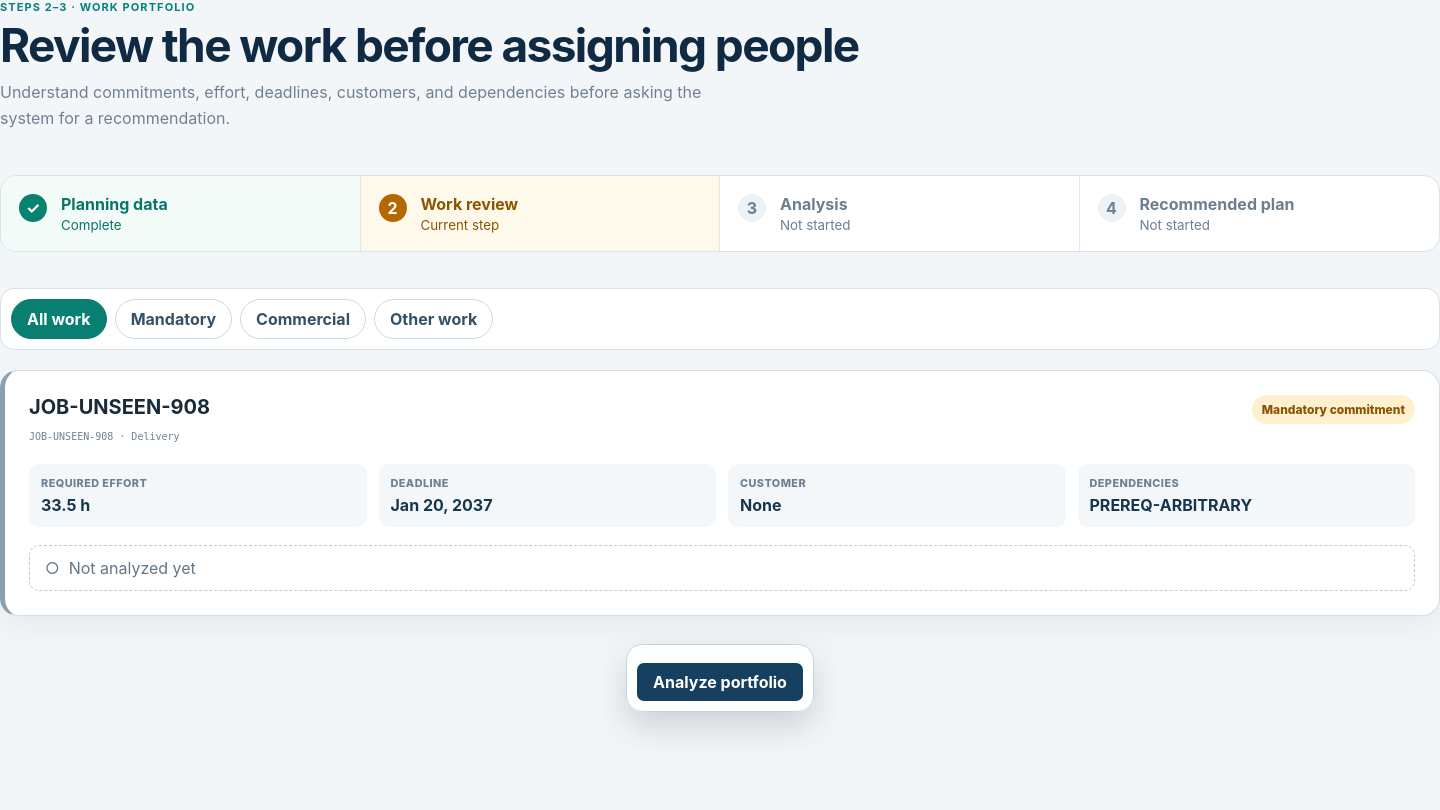
it: WorkItems staged workflow › requires separate Analyze and Generate actions
Click the button "Analyze portfolio".
click(720, 682)  # box [637,664,803,702]
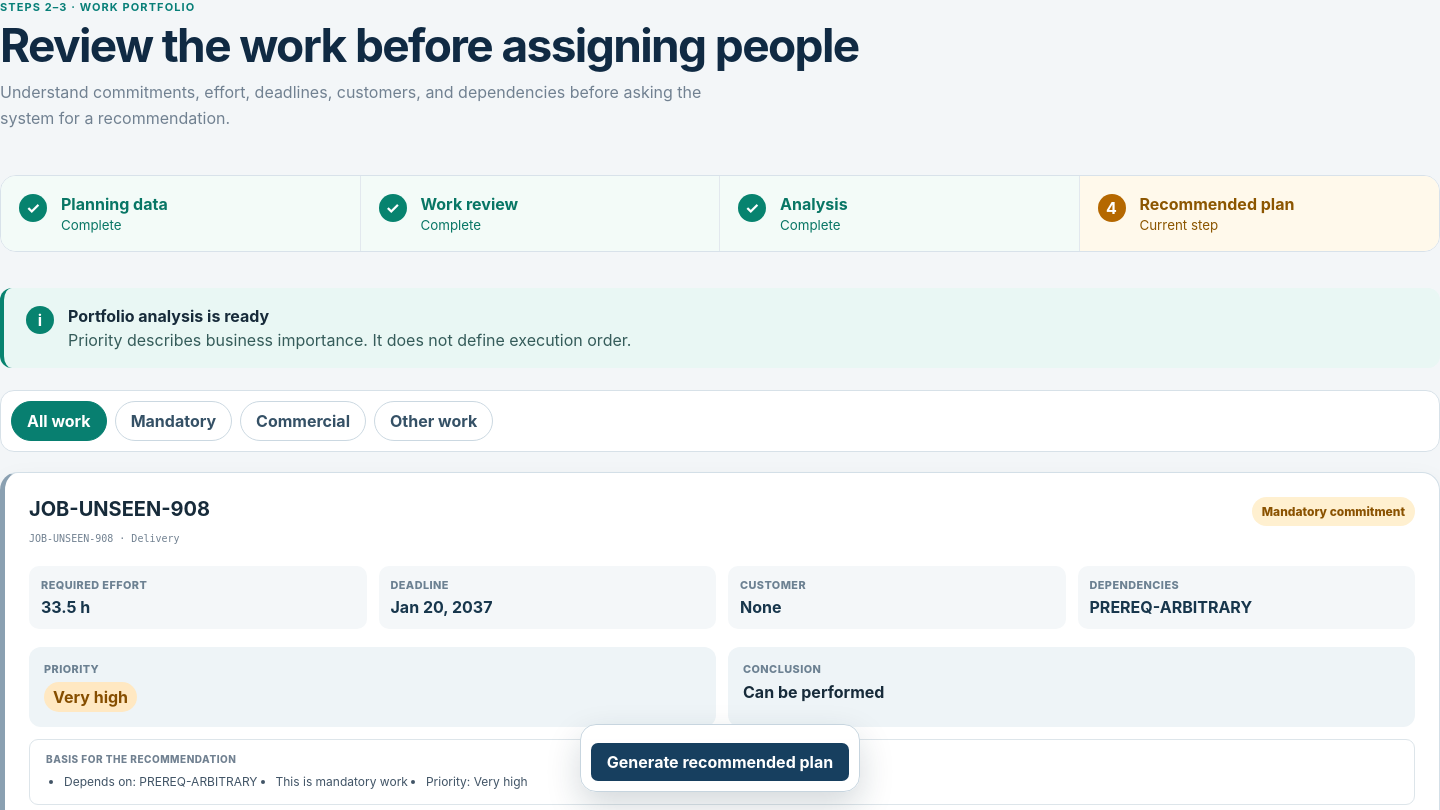
Expected: the text "Portfolio analysis is ready" is shown, [68,306,269,326]
Expected: the text "Very high" is shown, [44,682,137,712]
Expected: the text "Can be performed" is shown, [743,682,884,702]
Click the button "Generate recommended plan".
click(720, 762)  # box [591,743,849,781]
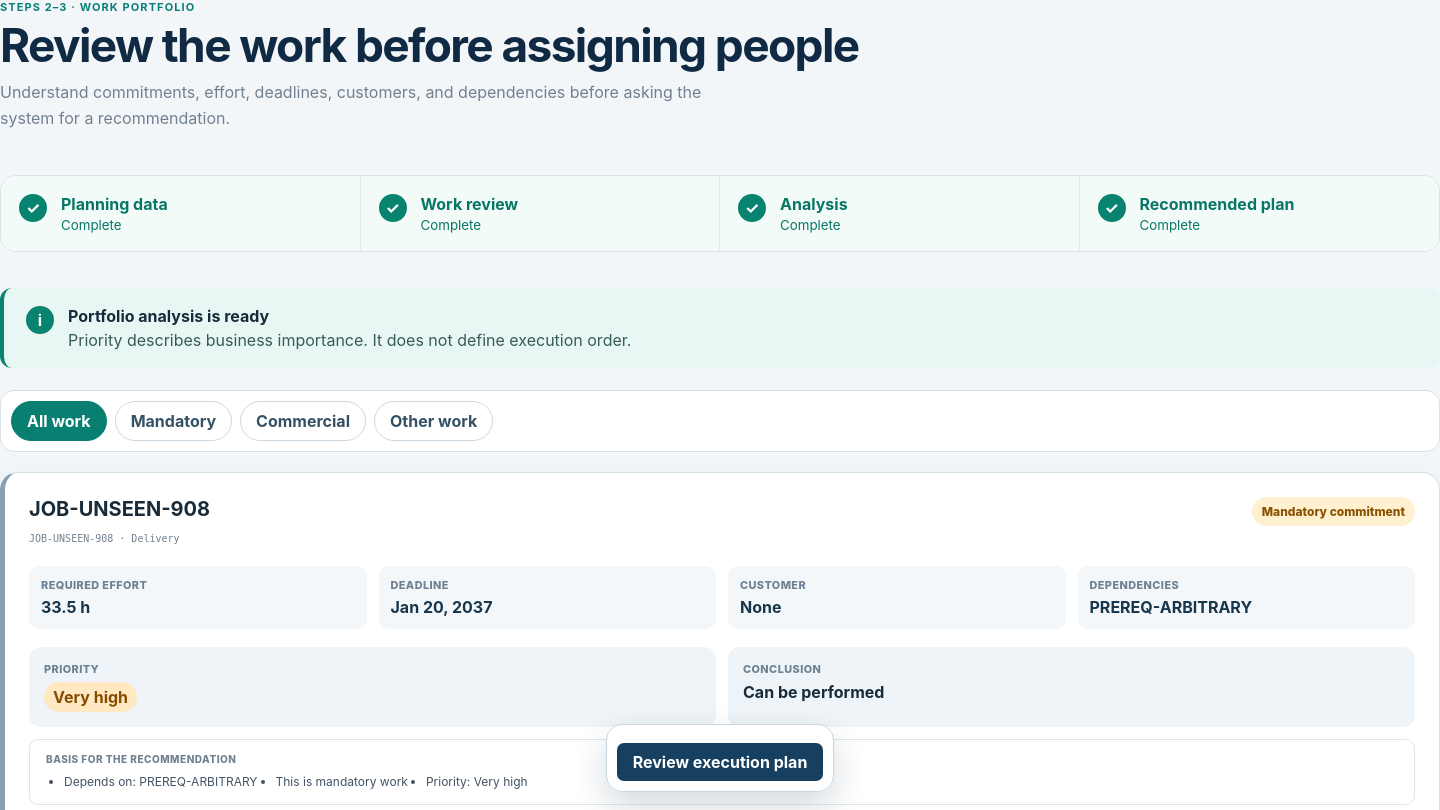
Expected: the button "Review execution plan" is shown, [617,743,823,781]
